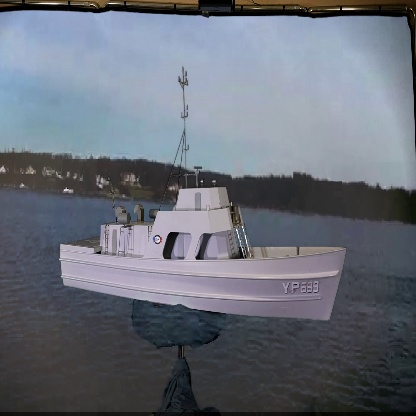YP689: (56, 66, 347, 323)
